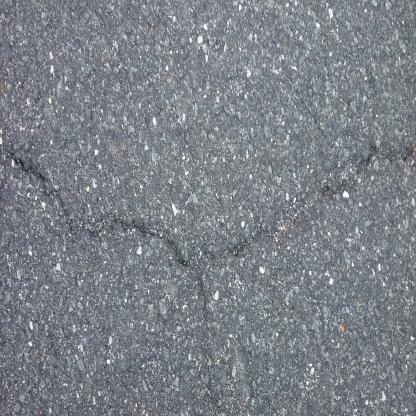Cracks: (0, 127, 415, 275)
